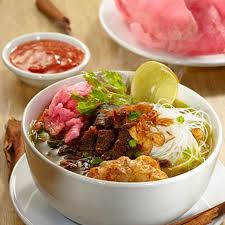soto: (16, 66, 225, 200)
